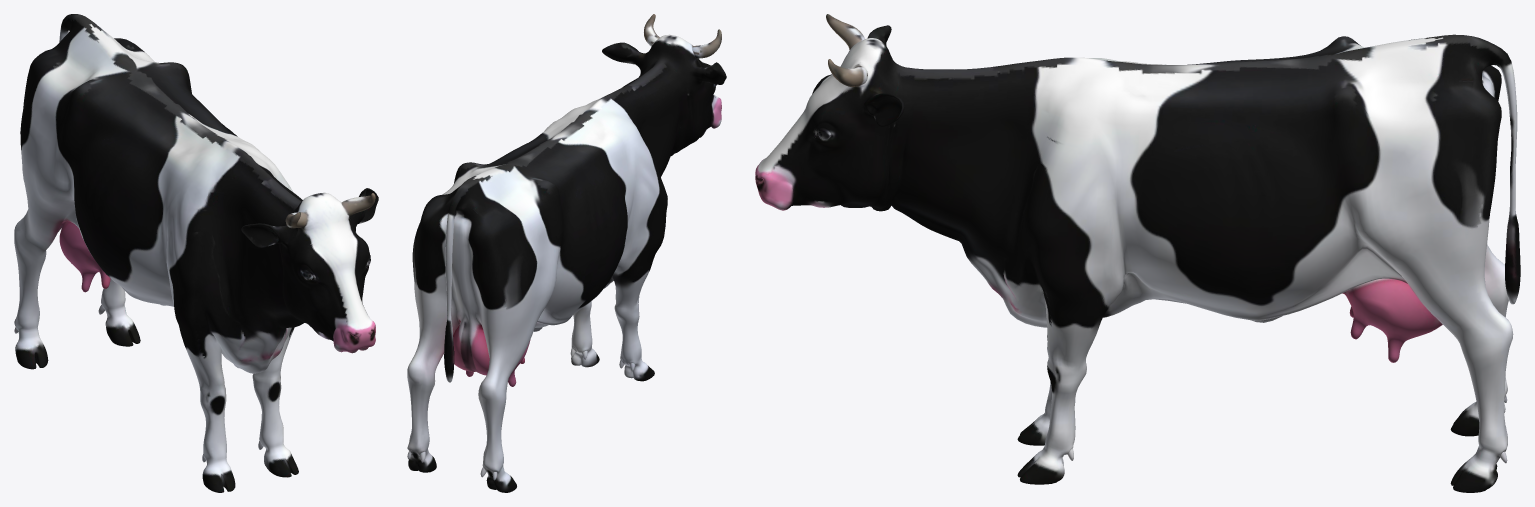
Rendered from cow.glb.
The picture shows the model from 3 angles, left to right: view 1: azimuth 30°, elevation 25°; view 2: azimuth 150°, elevation 25°; view 3: azimuth 270°, elevation 25°; orthographic projection. The views are drawn at different scales.
Visible parts, largest first — view 1: Cow_Body_material43_0.002; view 2: Cow_Body_material43_0.002; view 3: Cow_Body_material43_0.002.
Part boxes in pixels (x1,y1,x2,y2): Cow_Body_material43_0.002: (14, 14, 378, 492); Cow_Body_material43_0.002: (407, 14, 726, 492); Cow_Body_material43_0.002: (755, 14, 1520, 492).
Size of the model in its own units: 0.2878 by 0.6086 by 1.
1 material, 1 textured.
